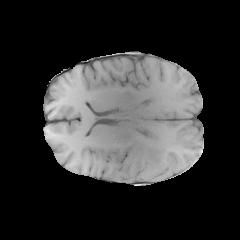glioma: (133, 139, 167, 174)
